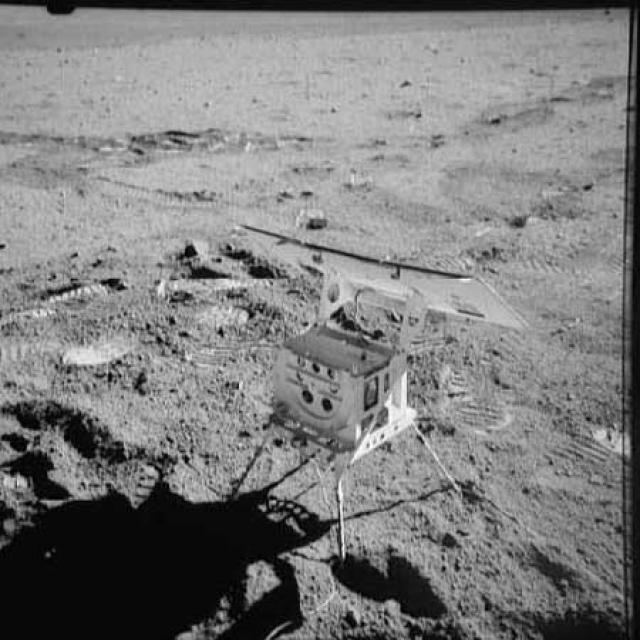artifact: (232, 257, 476, 556)
